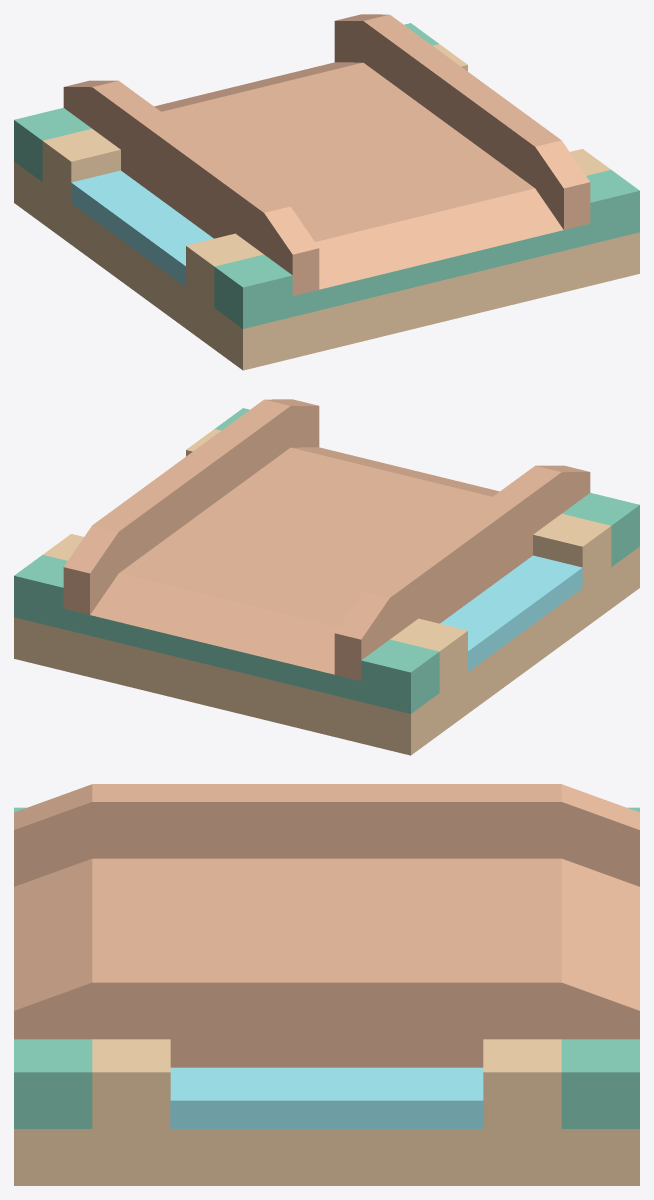
The model's file is bridge.gltf.
3 views of the same model, one above another, from view 1: azimuth 30°, elevation 25°; view 2: azimuth 150°, elevation 25°; view 3: azimuth 270°, elevation 25° (orthographic). The views are drawn at different scales.
Visible parts, largest first — view 1: tile_riverBridge; view 2: tile_riverBridge; view 3: tile_riverBridge.
Boxes of the visible parts, x1=… form: tile_riverBridge: x1=14, y1=14, x2=639, y2=370; tile_riverBridge: x1=14, y1=399, x2=639, y2=755; tile_riverBridge: x1=14, y1=784, x2=639, y2=1185.
Bounding box in the file's own units: 1 × 0.3 × 1.
